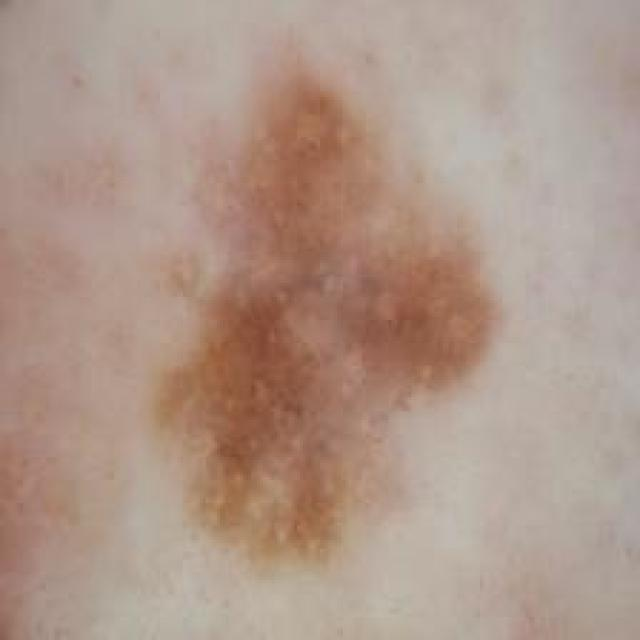Cancer: (149, 34, 500, 572)
